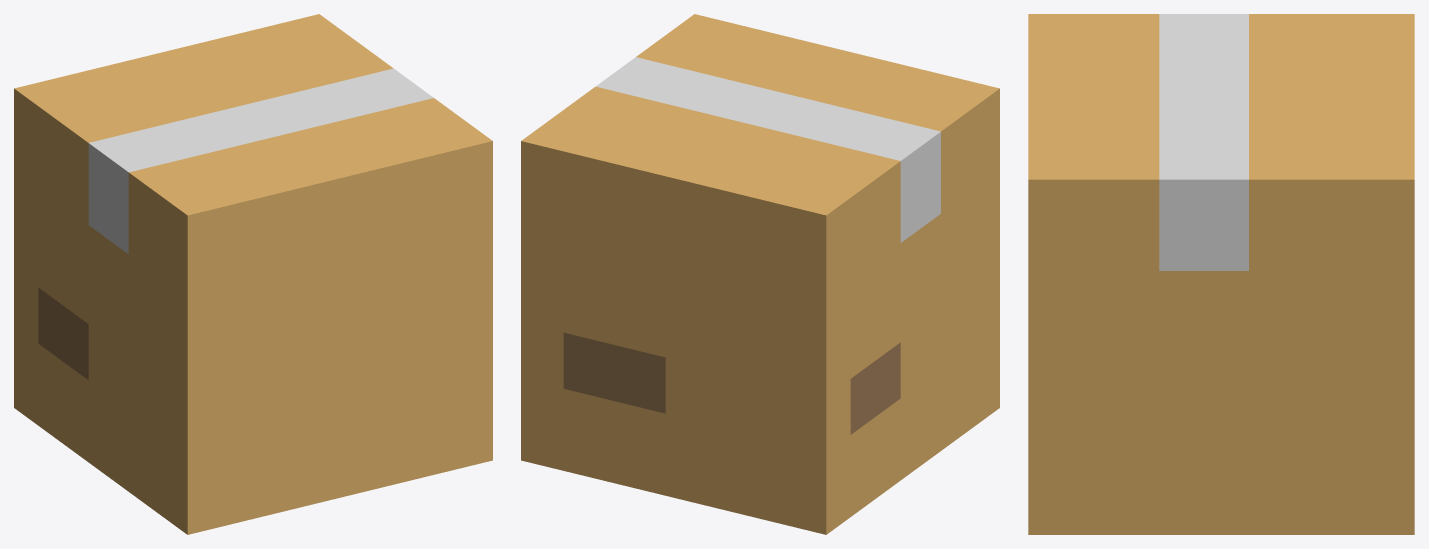
3 views of the same model, side by side, from view 1: azimuth 30°, elevation 25°; view 2: azimuth 150°, elevation 25°; view 3: azimuth 270°, elevation 25° (orthographic). The views are drawn at different scales.
Visible parts, largest first — view 1: Cube; view 2: Cube; view 3: Cube.
Part boxes in pixels (x1,y1,x2,y2): Cube: (14,14,492,534); Cube: (521,14,999,534); Cube: (1028,14,1414,534).
Bounding box in the file's own units: 173 × 173 × 171.
